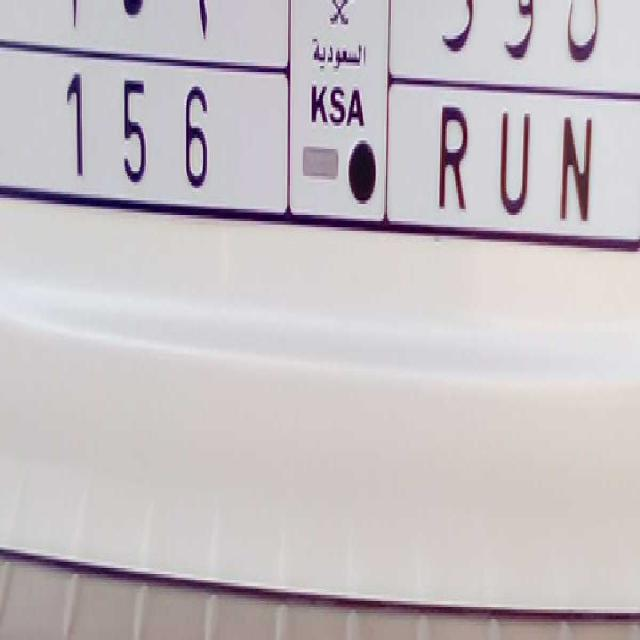license_plate: (25, 51, 630, 248)
